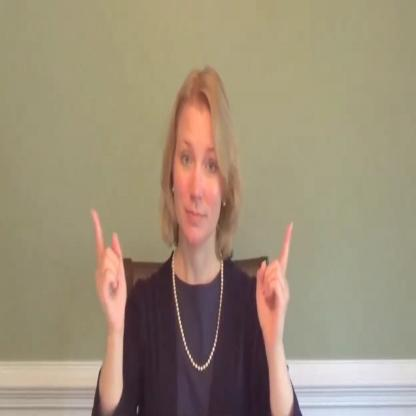NiceToMeetYou: (90, 61, 295, 416)
